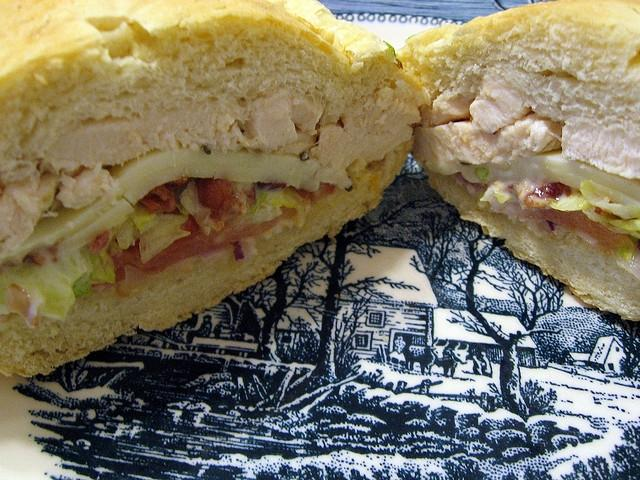lettuce: (4, 252, 86, 322), (70, 236, 116, 298), (138, 214, 191, 264), (580, 180, 640, 220), (247, 188, 311, 216), (611, 218, 640, 240), (474, 167, 490, 185)
tomato: (112, 216, 225, 282), (522, 209, 632, 253), (198, 178, 244, 224)
